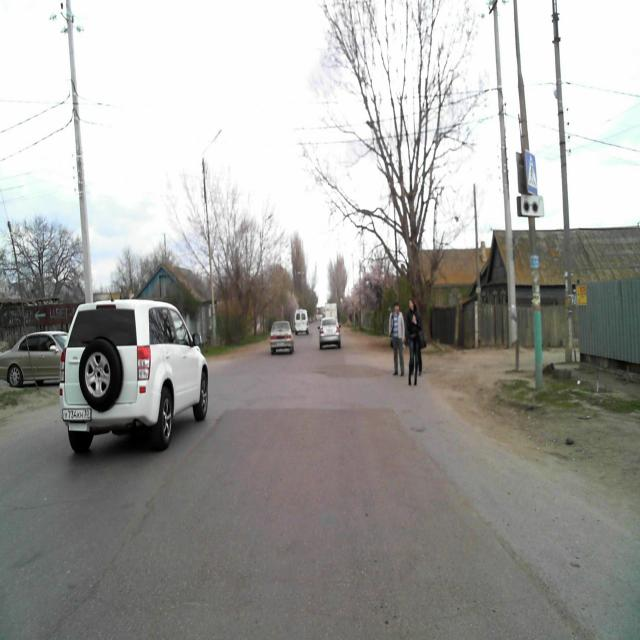road sign: (526, 149, 539, 194), (520, 196, 545, 216)
